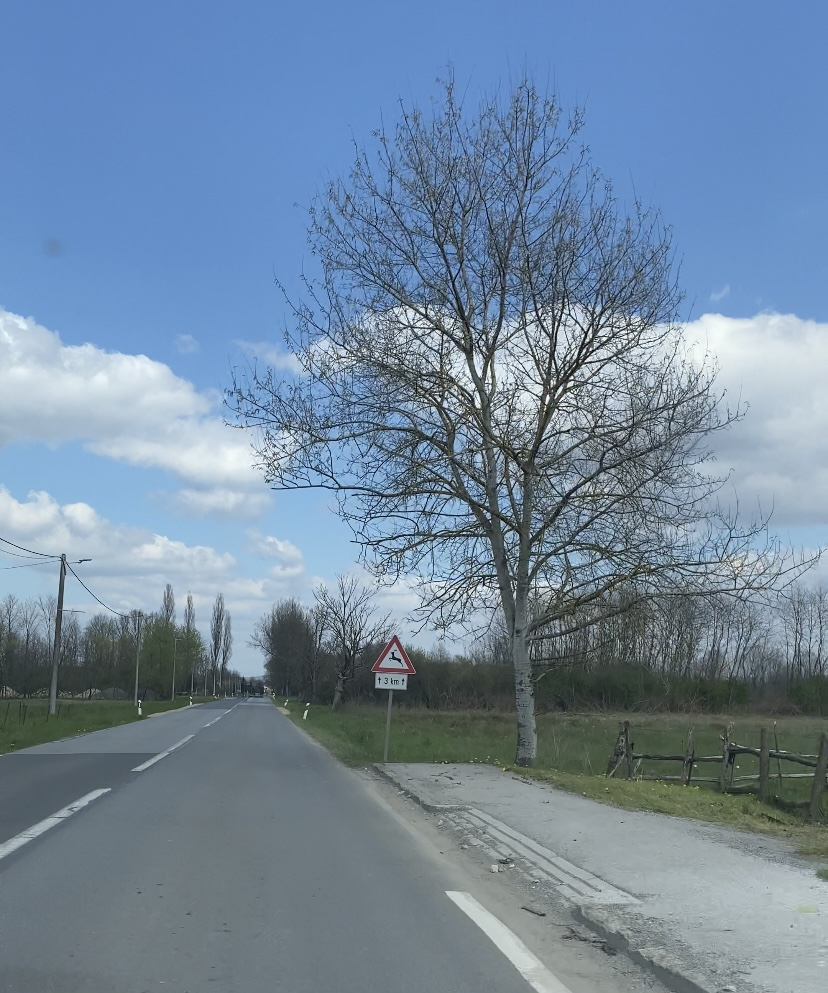Divljač na cesti: (371, 634, 416, 675)
